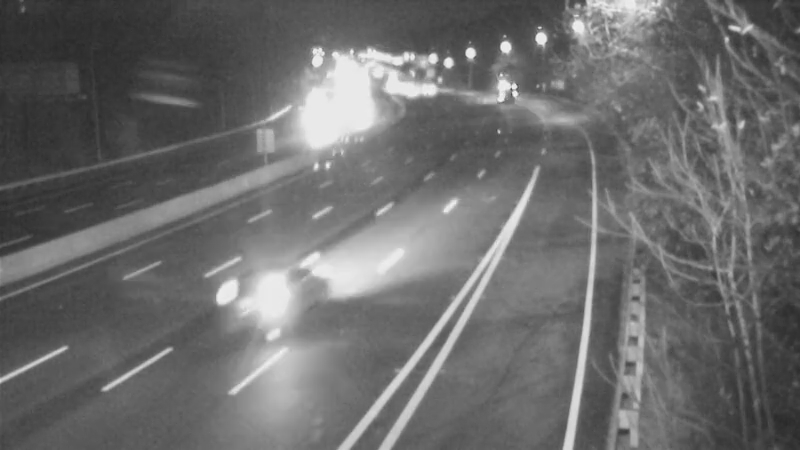vehicle: (211, 250, 291, 330), (477, 58, 527, 108)
